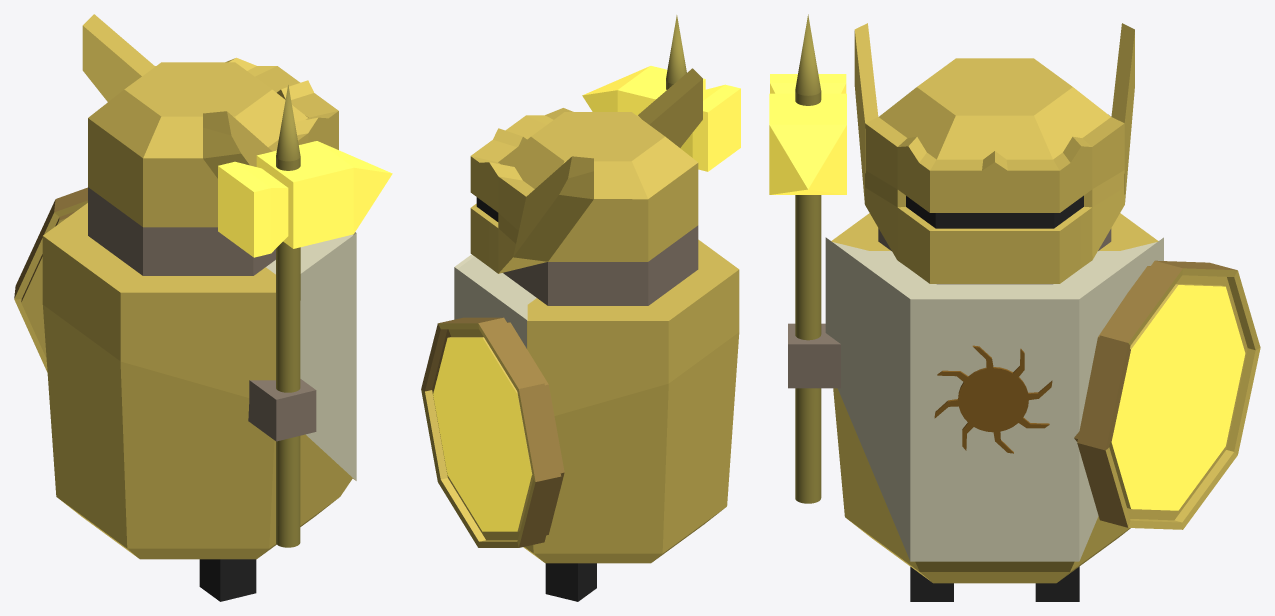
Rendered from LightKnight.fbx.
3 renders of one model, left to right at view 1: azimuth 30°, elevation 25°; view 2: azimuth 150°, elevation 25°; view 3: azimuth 270°, elevation 25°, orthographic. The views are drawn at different scales.
Visible parts, largest first — view 1: Cylinder, Cylinder.001, Cube.002, Cylinder.002, Cube, Cylinder.004, Cube.001; view 2: Cylinder, Cylinder.001, Cylinder.004, Cube.002, Cube.001, Cylinder.002; view 3: Cylinder, Cylinder.001, Cylinder.004, Cube.002, Cylinder.002, Cylinder.003, Cube, Cube.001.
Part boxes in pixels (x1,y1,x2,y2): Cylinder: (42,203,356,559); Cylinder.001: (82,14,338,275); Cube.002: (218,141,392,257); Cylinder.002: (276,85,300,547); Cube: (248,379,316,441); Cylinder.004: (14,187,87,372); Cube.001: (199,559,256,601); Cylinder: (454,239,739,563); Cylinder.001: (470,68,702,305); Cylinder.004: (421,317,564,547); Cube.002: (582,66,740,171); Cube.001: (545,563,596,601); Cylinder.002: (666,15,686,89); Cylinder: (825,213,1163,583); Cylinder.001: (854,23,1134,284); Cylinder.004: (1074,260,1260,529); Cube.002: (769,74,846,194); Cylinder.002: (795,14,821,503); Cylinder.003: (934,345,1052,453); Cube: (788,323,840,388); Cube.001: (910,566,1079,601).
Bounding box in the file's own units: 193 × 389 × 299.
